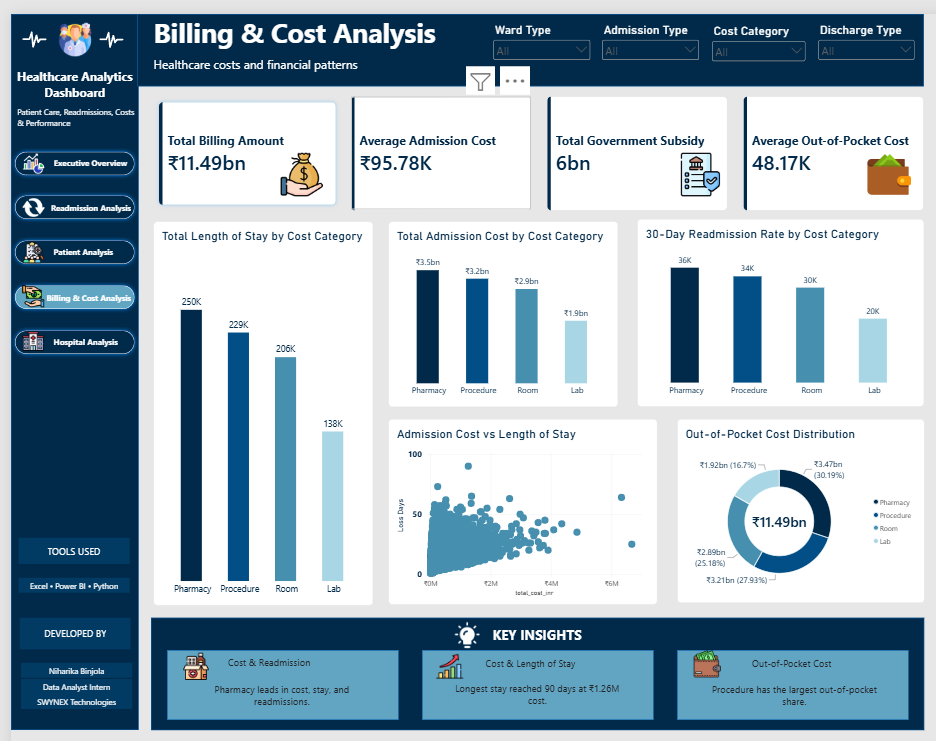

This screenshot's page, from the dashboard's own definition file:
{"tool":"powerbi","page":{"name":"Billing & Cost Analysis","canvas":[1920,1500],"ordinal":3},"visuals":[{"type":"cardVisual","fields":{"Data":["Sum(billing_cleaned.total_cost_inr)"]},"box":[283.9,164.3,376.8,228.6],"z":0},{"type":"cardVisual","fields":{"Data":["Avg(billing_cleaned.out_of_pocket_inr)"]},"box":[1466.1,164.3,360.7,228.6],"z":1000},{"type":"cardVisual","fields":{"Data":["Sum(billing_cleaned.govt_subsidy_inr)"]},"box":[1072.6,164.3,360.7,228.6],"z":2000},{"type":"cardVisual","fields":{"Data":["Avg(billing_cleaned.total_cost_inr)"]},"box":[679.2,164.3,360.7,228.6],"z":3000},{"type":"columnChart","title":"Total Admission Cost by Cost Category","fields":{"Category":["billing_cleaned.cost_category"],"Y":["Sum(billing_cleaned.total_cost_inr)"]},"box":[755.4,414.3,458.9,371.4],"z":4000},{"type":"columnChart","title":"Total Length of Stay by Cost Category","fields":{"Category":["billing_cleaned.cost_category"],"Y":["Sum(billing_cleaned.Loss Days)"]},"box":[283.9,414.3,439.3,767.9],"z":5000},{"type":"columnChart","title":"30-Day Readmission Rate by Cost Category","fields":{"Category":["billing_cleaned.cost_category"],"Y":["CountNonNull(billing_cleaned.Readmitted 30D)"]},"box":[1253.6,408.9,573.2,375],"z":6000},{"type":"donutChart","title":"Out-of-Pocket Cost Distribution","fields":{"Category":["billing_cleaned.cost_category"],"Y":["Sum(billing_cleaned.total_cost_inr)"]},"box":[1332.1,810.7,494.6,367.9],"z":7000},{"type":"scatterChart","title":"Admission Cost vs Length of Stay","fields":{"X":["billing_cleaned.total_cost_inr"],"Y":["billing_cleaned.Loss Days"]},"box":[755.4,810.7,537.5,371.4],"z":8000},{"type":"shape","box":[0,0,255.4,1432.1],"z":9000},{"type":"image","box":[92.4,18.5,71.7,67.4],"z":10000},{"type":"textbox","box":[0,108,255,76],"z":11000},{"type":"image","box":[12,18.5,68.5,67.4],"z":12000},{"type":"image","box":[167.4,18.5,66.3,67.4],"z":13000},{"type":"textbox","box":[12,184,243,52],"z":14000},{"type":"shape","box":[0,268,255,63],"z":15000},{"type":"image","box":[19,278,51,44],"z":16000},{"type":"textbox","box":[62.5,268,192.6,62.9],"z":17000},{"type":"shape","box":[0,356,255,63],"z":18000},{"type":"image","box":[20,366,51,44],"z":19000},{"type":"shape","box":[0,445.6,255,63],"z":20000},{"type":"image","box":[19,454.4,50.3,44.2],"z":21000},{"type":"textbox","box":[84.8,445,170.2,62],"z":22000},{"type":"shape","box":[0,533.8,255,63],"z":23000},{"type":"image","box":[20,543.5,49.5,44],"z":24000},{"type":"shape","box":[0,624,255,63],"z":25000},{"type":"image","box":[19.3,633.1,49.4,44],"z":26000},{"type":"textbox","box":[84.8,624,200.6,63.2],"z":27000},{"type":"shape","box":[253.6,0,1573.2,144.6],"z":28000},{"type":"textbox","box":[285.7,0,621.4,71.4],"z":29000},{"type":"textbox","box":[285.7,85.7,673.5,59.2],"z":30000},{"type":"slicer","fields":{"Values":["billing_cleaned.cost_category"]},"box":[1398.2,19.6,196.4,83.9],"z":31000},{"type":"slicer","fields":{"Values":["billing_cleaned.Ward Type"]},"box":[958.9,17.9,203.6,85.7],"z":32000},{"type":"slicer","fields":{"Values":["billing_cleaned.Admission Type"]},"box":[1178.6,17.9,203.6,87.5],"z":33000},{"type":"slicer","fields":{"Values":["billing_cleaned.Discharge Type"]},"box":[1610.7,17.9,201.8,85.7],"z":34000},{"type":"image","box":[525,278.6,112.5,87.5],"z":35000},{"type":"image","box":[1700,278.6,112.5,87.5],"z":36000},{"type":"image","box":[1321.4,278.6,112.5,87.5],"z":37000},{"type":"image","box":[912.5,285.7,112.5,87.5],"z":38000},{"type":"shape","box":[280.4,1207.1,1546.4,225],"z":39000},{"type":"shape","box":[312.5,1271.4,462.5,139.3],"z":40000},{"type":"textbox","box":[312.5,1221.4,1480.4,50],"z":41000},{"type":"shape","box":[1332.1,1271.4,462.5,139.3],"z":42000},{"type":"shape","box":[822.3,1271.4,462.5,139.3],"z":43000},{"type":"shape","box":[394.6,1275,242.9,44.6],"z":44000},{"type":"shape","box":[917.9,1275,242.9,46.4],"z":45000},{"type":"shape","box":[1441.1,1276.8,242.9,42.9],"z":46000},{"type":"shape","box":[358.9,1321.4,363.6,80],"z":47000},{"type":"shape","box":[875,1319.6,355.4,80.4],"z":48000},{"type":"shape","box":[1378.6,1321.4,378.6,80.4],"z":49000},{"type":"image","box":[871.4,1216.1,80,54.5],"z":50000},{"type":"image","box":[1353.6,1271.4,80,54.5],"z":51000},{"type":"image","box":[837.5,1276.8,80,54.5],"z":52000},{"type":"image","box":[330.4,1276.8,80,54.5],"z":53000},{"type":"shape","box":[19.5,1361,222.5,30],"z":53001},{"type":"shape","box":[19.5,1329.3,222.5,30],"z":53002},{"type":"shape","box":[19.5,1297.6,222.5,30],"z":53003},{"type":"shape","box":[17.1,1207.3,222,63.4],"z":53004},{"type":"shape","box":[14.6,1046.3,222.5,52.5],"z":53005},{"type":"shape","box":[14.6,1126.8,222.5,30],"z":53006}]}

Visuals, with their boxes on the page's 1920x1500 design canvas (x1, y1, x2, y2). These are canvas units, not pixel positions in the 936x741 screenshot, which may show the page scaled, cropped or inside an application window:
cardVisual - Sum(billing_cleaned.total_cost_inr): <box>284,164,661,393</box>
cardVisual - Avg(billing_cleaned.out_of_pocket_inr): <box>1466,164,1827,393</box>
cardVisual - Sum(billing_cleaned.govt_subsidy_inr): <box>1073,164,1433,393</box>
cardVisual - Avg(billing_cleaned.total_cost_inr): <box>679,164,1040,393</box>
"Total Admission Cost by Cost Category" columnChart: <box>755,414,1214,786</box>
"Total Length of Stay by Cost Category" columnChart: <box>284,414,723,1182</box>
"30-Day Readmission Rate by Cost Category" columnChart: <box>1254,409,1827,784</box>
"Out-of-Pocket Cost Distribution" donutChart: <box>1332,811,1827,1179</box>
"Admission Cost vs Length of Stay" scatterChart: <box>755,811,1293,1182</box>
shape: <box>0,0,255,1432</box>
image: <box>92,18,164,86</box>
textbox: <box>0,108,255,184</box>
image: <box>12,18,80,86</box>
image: <box>167,18,234,86</box>
textbox: <box>12,184,255,236</box>
shape: <box>0,268,255,331</box>
image: <box>19,278,70,322</box>
textbox: <box>62,268,255,331</box>
shape: <box>0,356,255,419</box>
image: <box>20,366,71,410</box>
shape: <box>0,446,255,509</box>
image: <box>19,454,69,499</box>
textbox: <box>85,445,255,507</box>
shape: <box>0,534,255,597</box>
image: <box>20,544,70,588</box>
shape: <box>0,624,255,687</box>
image: <box>19,633,69,677</box>
textbox: <box>85,624,285,687</box>
shape: <box>254,0,1827,145</box>
textbox: <box>286,0,907,71</box>
textbox: <box>286,86,959,145</box>
slicer - billing_cleaned.cost_category: <box>1398,20,1595,104</box>
slicer - billing_cleaned.Ward Type: <box>959,18,1162,104</box>
slicer - billing_cleaned.Admission Type: <box>1179,18,1382,105</box>
slicer - billing_cleaned.Discharge Type: <box>1611,18,1812,104</box>
image: <box>525,279,638,366</box>
image: <box>1700,279,1812,366</box>
image: <box>1321,279,1434,366</box>
image: <box>912,286,1025,373</box>
shape: <box>280,1207,1827,1432</box>
shape: <box>312,1271,775,1411</box>
textbox: <box>312,1221,1793,1271</box>
shape: <box>1332,1271,1795,1411</box>
shape: <box>822,1271,1285,1411</box>
shape: <box>395,1275,638,1320</box>
shape: <box>918,1275,1161,1321</box>
shape: <box>1441,1277,1684,1320</box>
shape: <box>359,1321,722,1401</box>
shape: <box>875,1320,1230,1400</box>
shape: <box>1379,1321,1757,1402</box>
image: <box>871,1216,951,1271</box>
image: <box>1354,1271,1434,1326</box>
image: <box>838,1277,918,1331</box>
image: <box>330,1277,410,1331</box>
shape: <box>20,1361,242,1391</box>
shape: <box>20,1329,242,1359</box>
shape: <box>20,1298,242,1328</box>
shape: <box>17,1207,239,1271</box>
shape: <box>15,1046,237,1099</box>
shape: <box>15,1127,237,1157</box>
